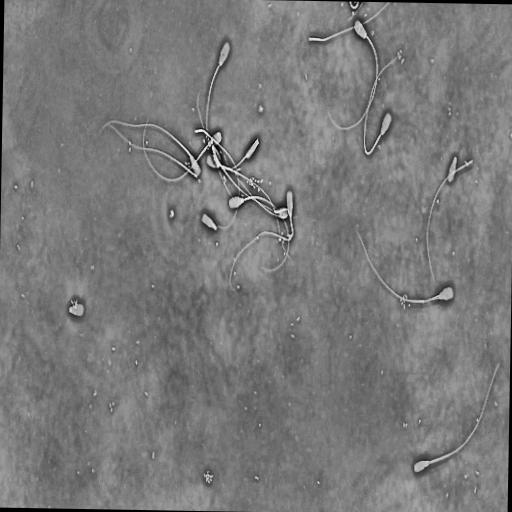coiled-tail: (233, 172, 291, 221)
folded-tail: (229, 215, 294, 291), (364, 56, 399, 156)
loose-head: (199, 210, 219, 235), (67, 298, 87, 321), (446, 153, 459, 185)
loose-tail: (425, 155, 475, 286), (105, 120, 201, 183), (193, 126, 241, 233), (306, 2, 392, 45)
normal: (406, 353, 506, 481), (204, 150, 293, 263), (352, 222, 460, 311), (225, 185, 297, 297), (98, 115, 204, 179), (326, 17, 379, 132), (141, 115, 223, 186), (226, 192, 292, 277), (204, 38, 236, 205), (360, 48, 405, 163)
